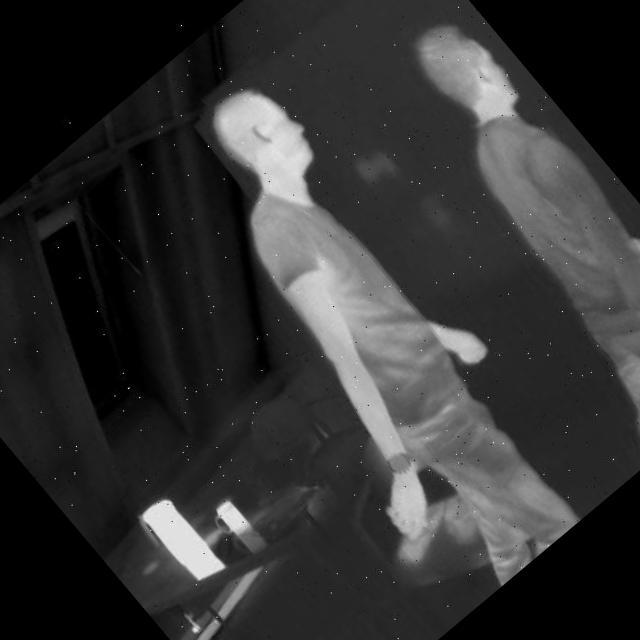person: (101, 46, 622, 613), (331, 0, 640, 472)
